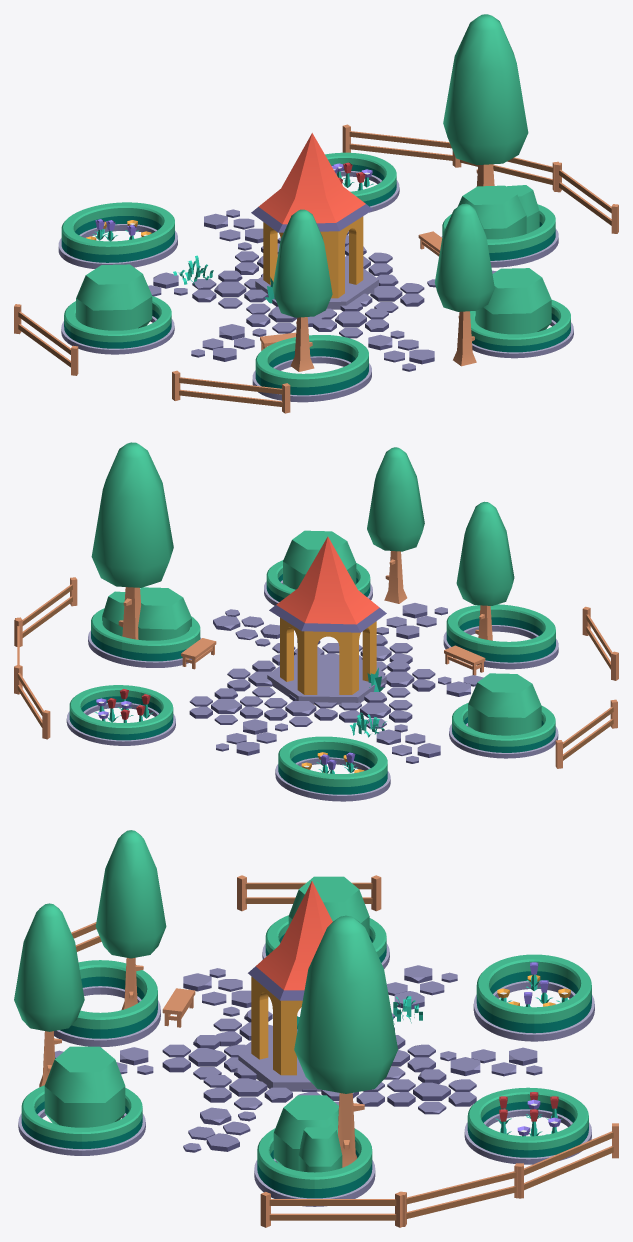
Rendered from garden.glb.
The picture shows the model from 3 angles, top to bottom: view 1: azimuth 30°, elevation 25°; view 2: azimuth 150°, elevation 25°; view 3: azimuth 270°, elevation 25°; orthographic projection. The views are drawn at different scales.
Parts seen in each view (by area): view 1: mergedBlocks(Clone); view 2: mergedBlocks(Clone); view 3: mergedBlocks(Clone).
Boxes of the visible parts, <box> form: mergedBlocks(Clone): <box>14,14,618,413</box>; mergedBlocks(Clone): <box>14,442,618,801</box>; mergedBlocks(Clone): <box>14,830,618,1227</box>.
Bounding box in the file's own units: 1.49 × 0.5681 × 1.19.
